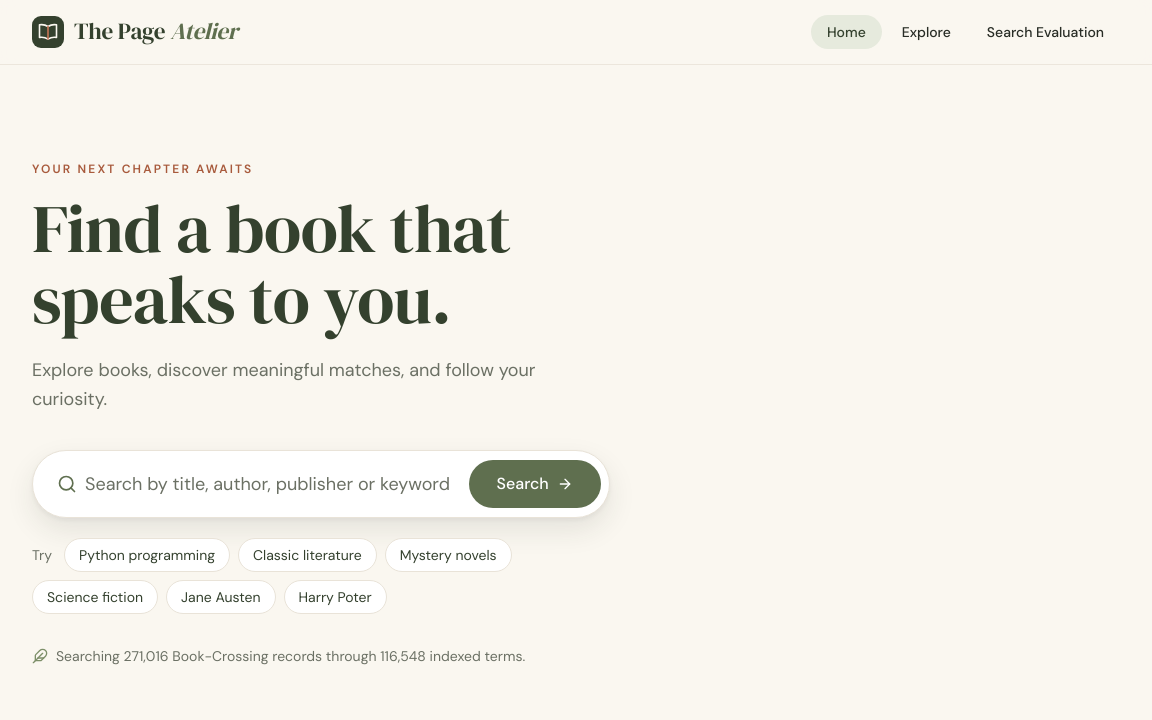
The Page Atelier user flows › submits a search from the homepage
Expected: the text "271,016 Book-Crossing records" is shown, top-left (32, 646), bottom-right (610, 666)
Type "harry potter" into the search field.
click(273, 484); type("harry potter")  # box top-left (85, 470), bottom-right (461, 498)
Then press Enter
(page scrolled)
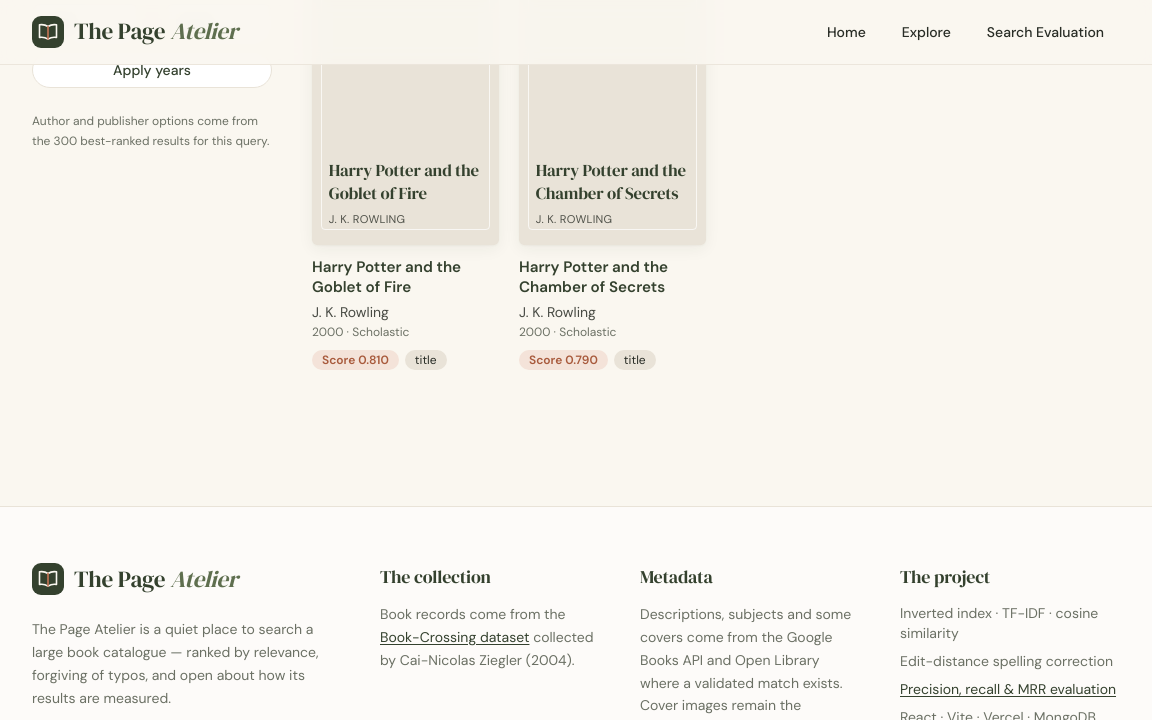
Result: the link "Harry Potter and the Goblet of Fire" is shown at top-left (312, 256), bottom-right (461, 297)
Result: the text "Score 0.810" is shown at top-left (312, 350), bottom-right (399, 370)
